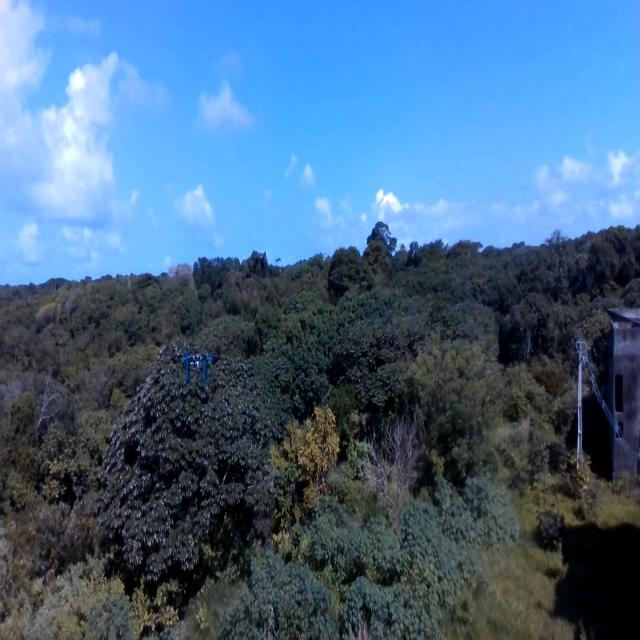-uav-: (172, 342, 220, 396)
